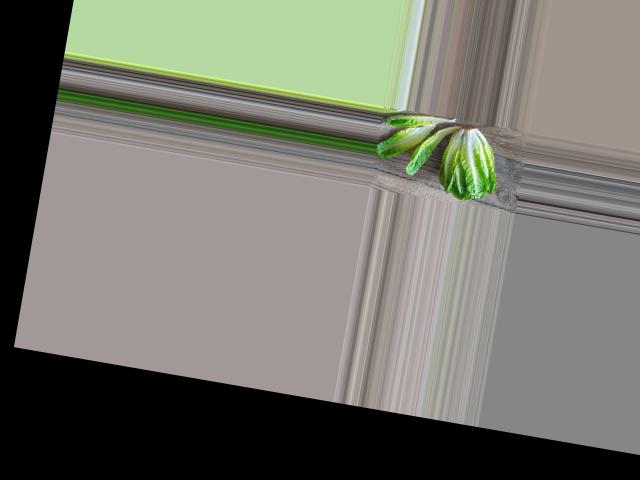lettuce: (432, 124, 506, 204)
